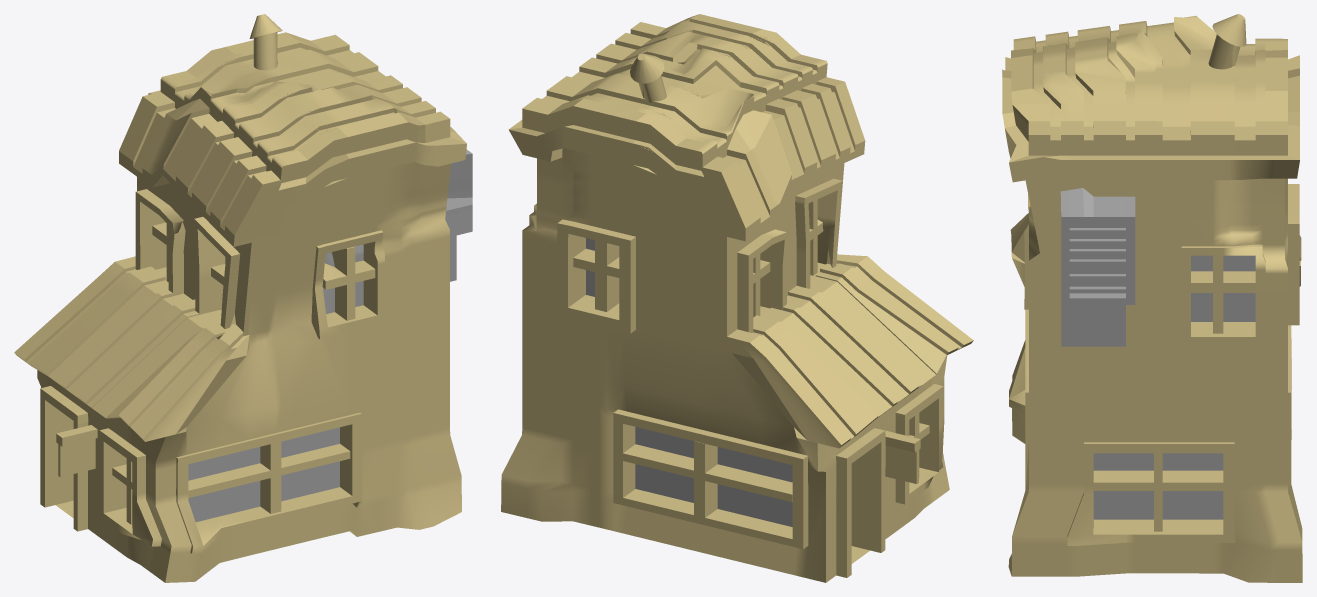
The model's file is Hus 4 (Bar).fbx.
3 renders of one model, left to right at view 1: azimuth 30°, elevation 25°; view 2: azimuth 150°, elevation 25°; view 3: azimuth 270°, elevation 25°, orthographic. The views are drawn at different scales.
Visible parts, largest first — view 1: pCylinder38; view 2: pCylinder38; view 3: pCylinder38.
Boxes of the visible parts, x1=… form: pCylinder38: x1=14, y1=14, x2=472, y2=582; pCylinder38: x1=501, y1=14, x2=973, y2=582; pCylinder38: x1=1002, y1=14, x2=1302, y2=582.
Size of the model in its own units: 848 by 1006 by 533.
